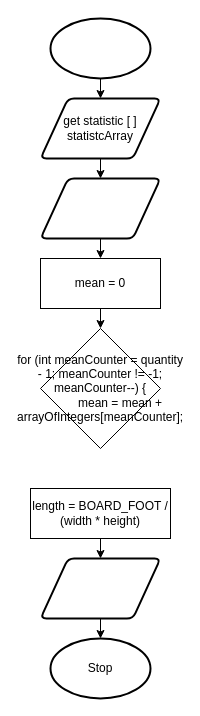
Image size: 200x716. Some labels were removed from this diagram. The box of each missing label's shape, as (x1, y1, x2, y2) in pixels:
get statisticQuantity: (39, 177, 161, 239)
return length: (39, 557, 161, 619)
Start: (49, 17, 151, 79)
